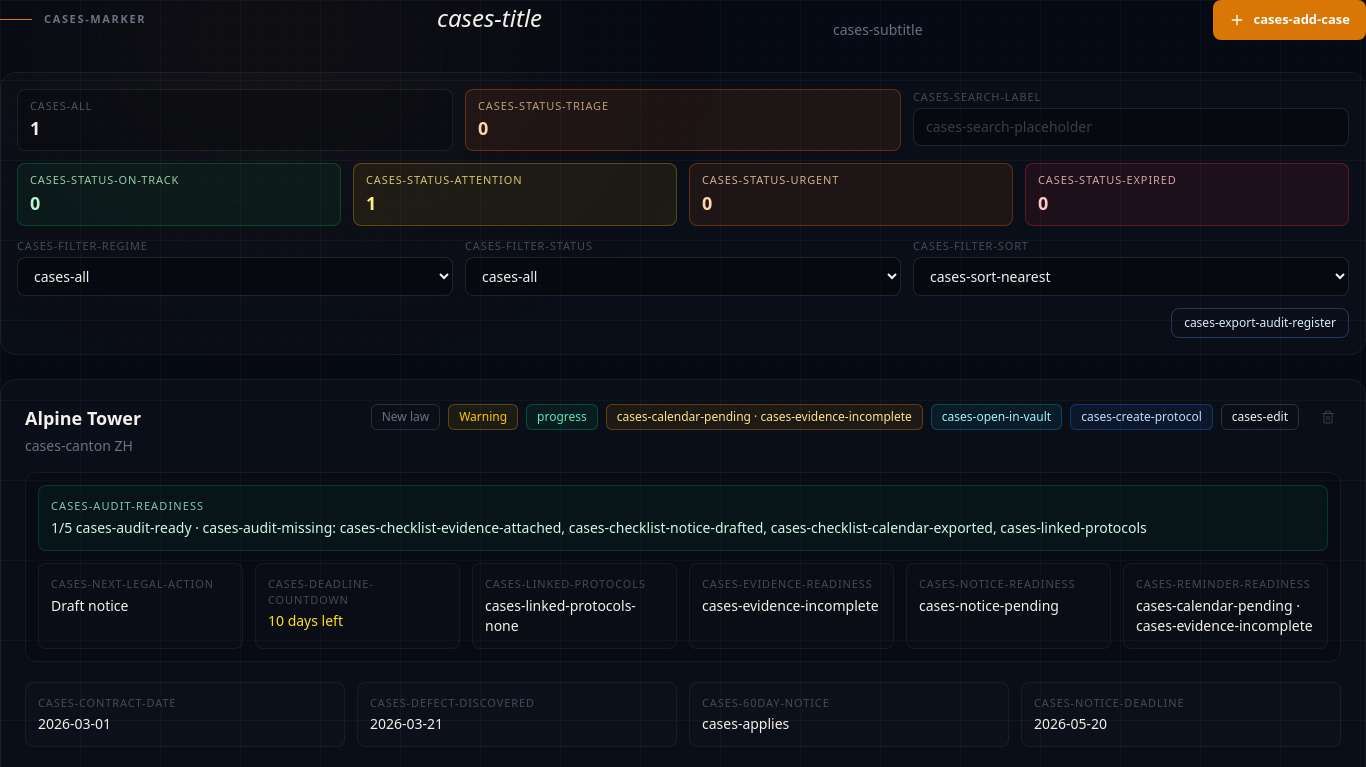
it: cases mutation feedback › keeps the form open, preserves entered values, and shows localized feedback when create returns an error
The image size is (1366, 767).
Expected: the heading "Alpine Tower" is shown, [25,404,141,432]
Click the button "cases-add-case": (1290, 20) [1214,0,1365,40]
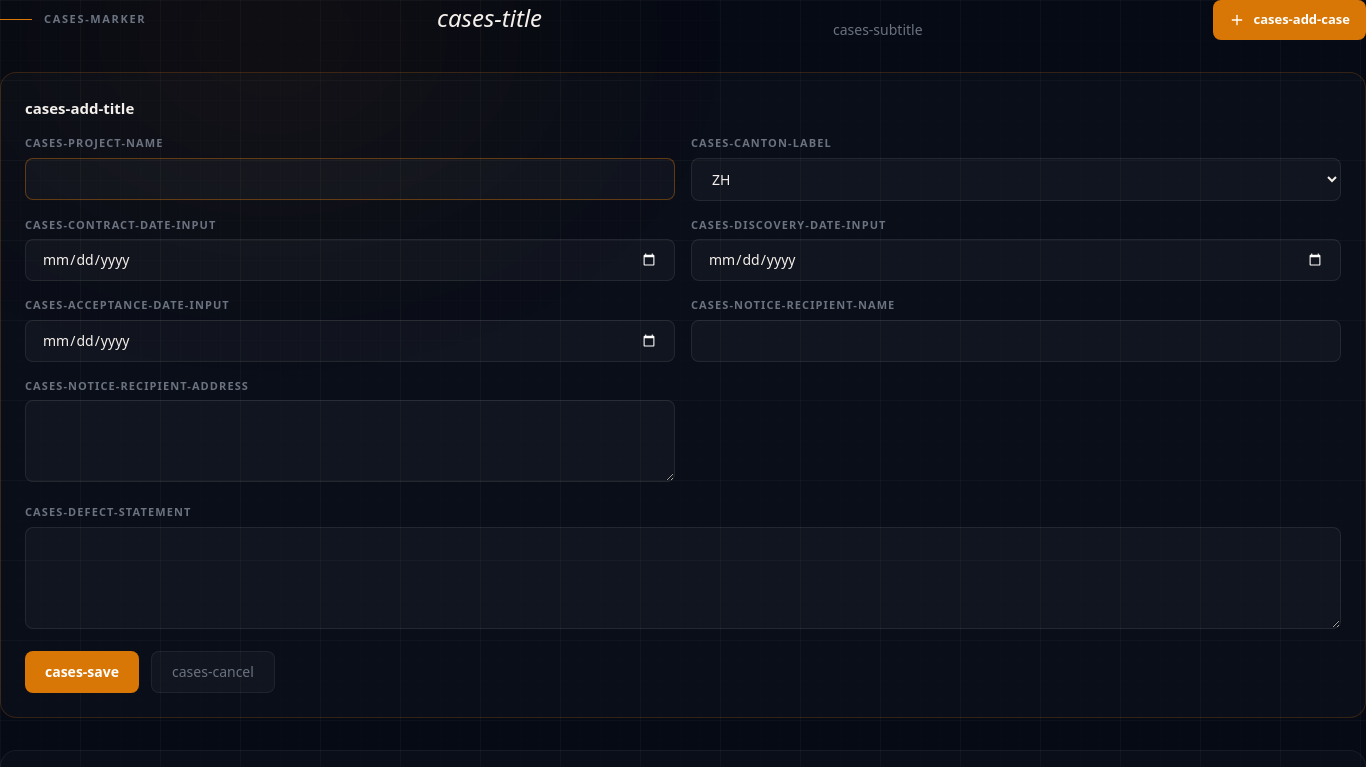
In the field labelled "cases-project-name": (350, 178) [25,158,675,200], type "Retention House"
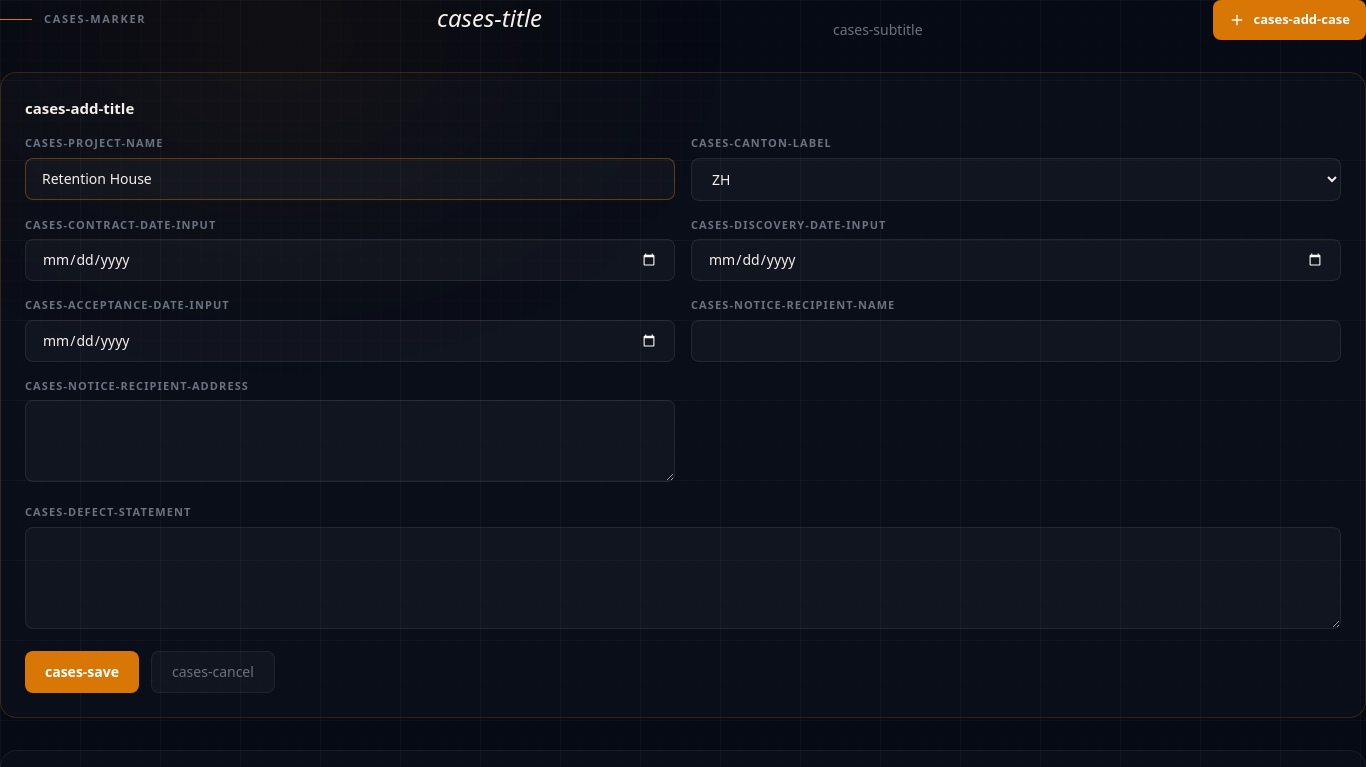
In the date field labelled "cases-contract-date-input": (350, 260) [25,239,675,281], type "2026-04-01"
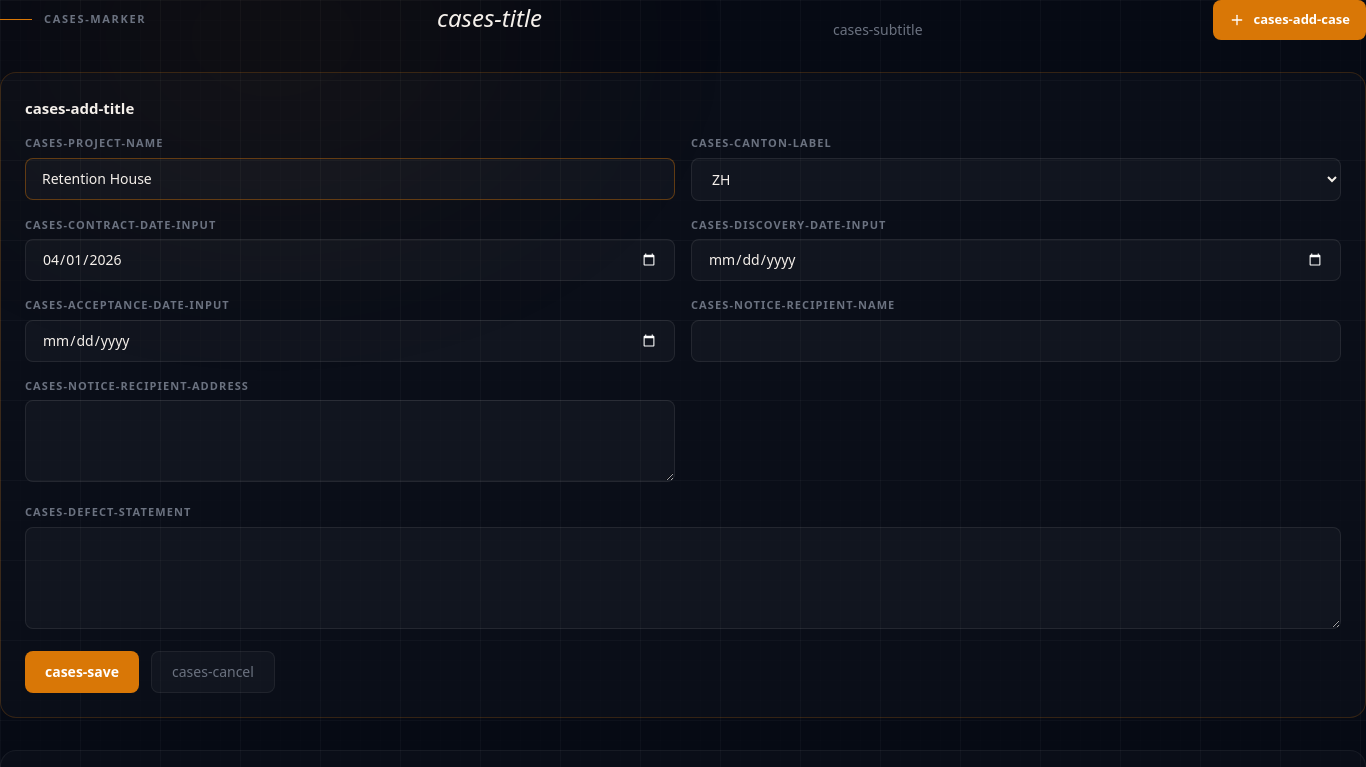
In the date field labelled "cases-discovery-date-input": (1016, 260) [691,239,1341,281], type "2026-04-20"
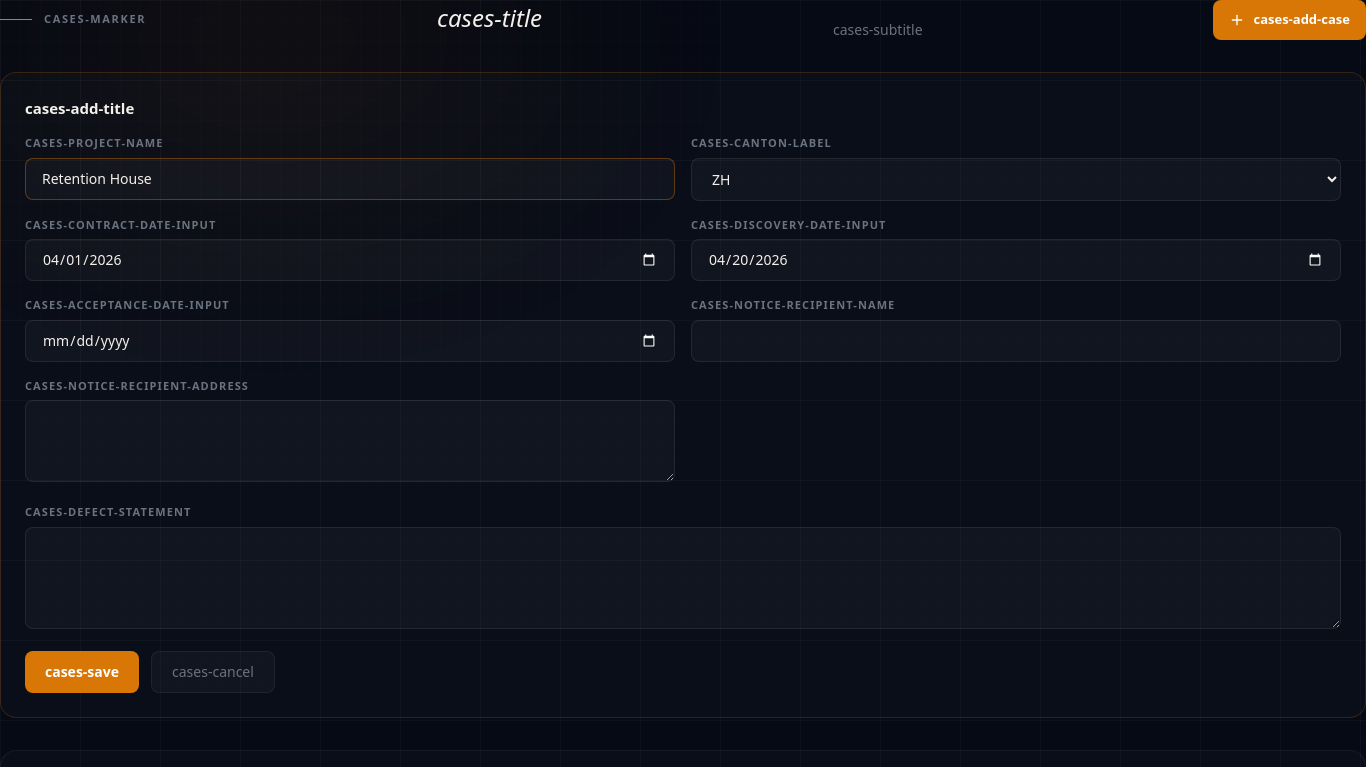
Click the button "cases-save": (82, 672) [25,650,139,692]
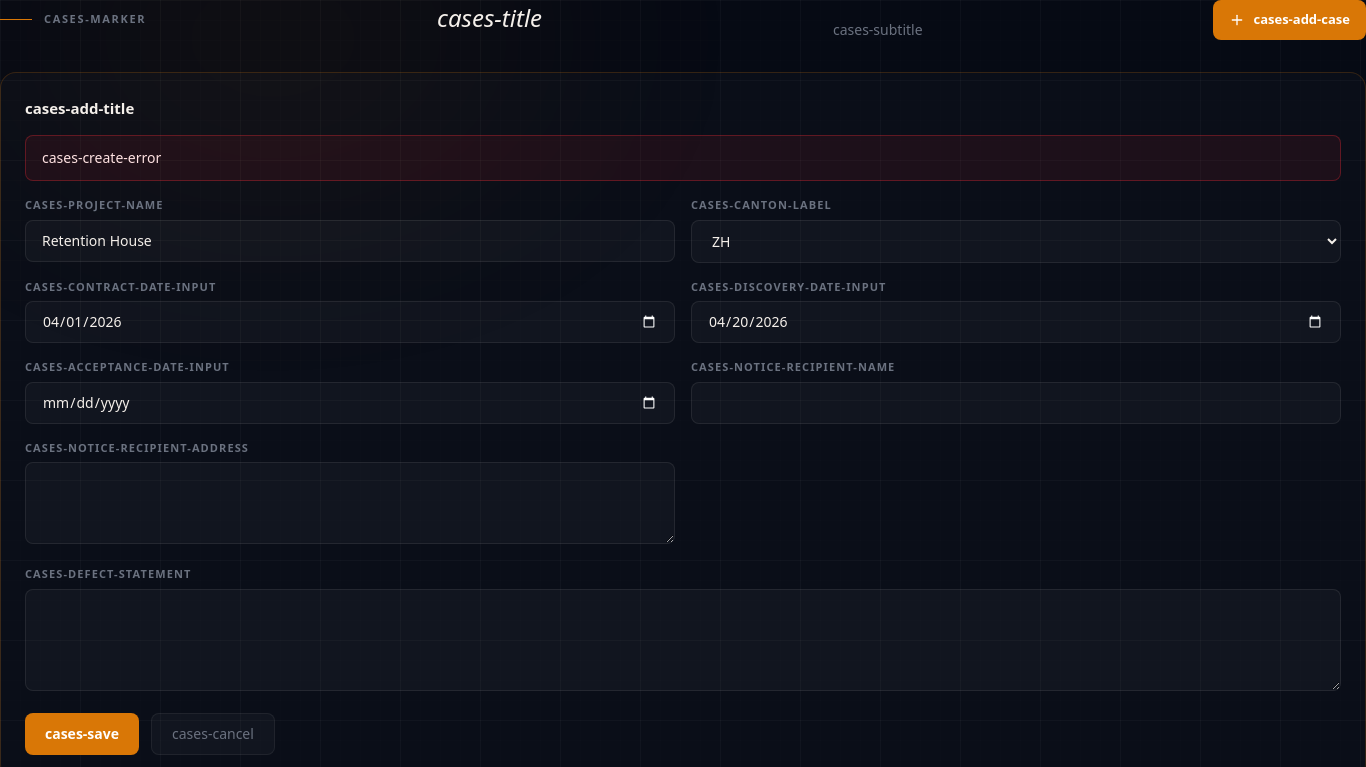
Expected: the heading "cases-add-title" is shown, [25,98,134,118]
Expected: the text "cases-create-error" is shown, [25,135,1341,181]
